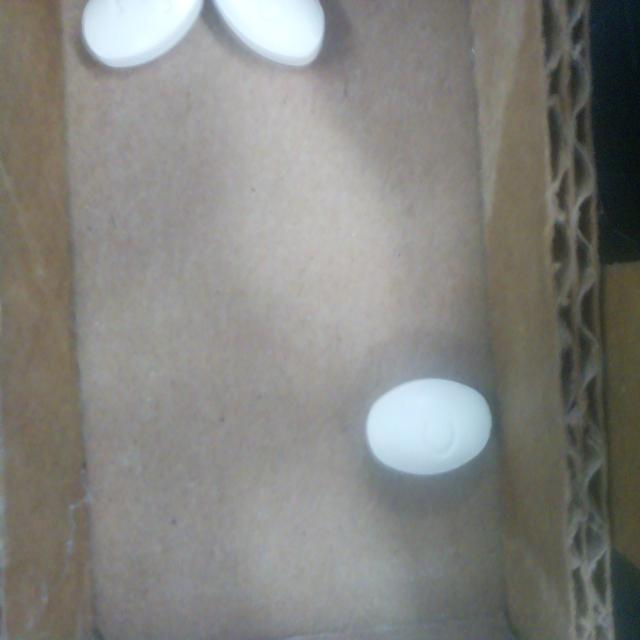pill: (366, 379, 492, 475), (82, 0, 203, 67), (212, 0, 325, 67)
